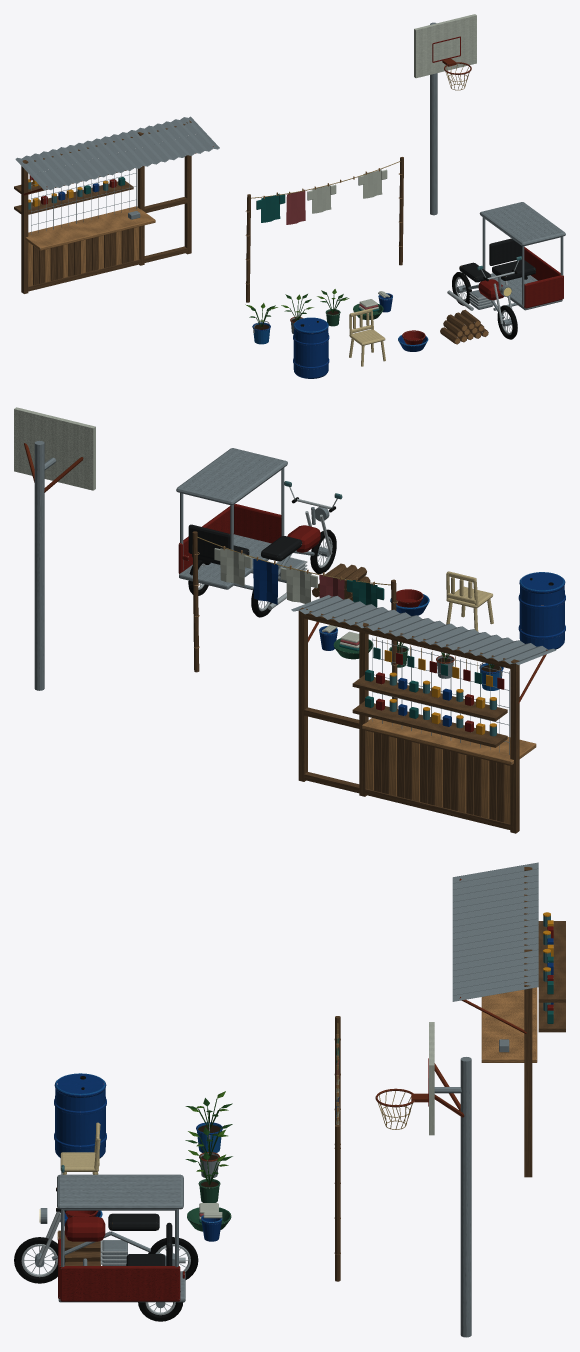
File: SibucaoBarangayKit.glb
3 views of the same model, one above another, from view 1: azimuth 30°, elevation 25°; view 2: azimuth 150°, elevation 25°; view 3: azimuth 270°, elevation 25° (orthographic). The views are drawn at different scales.
Parts seen in each view (by area): view 1: PROP_SariSariFront_mesh, PROP_Tricycle_mesh, PROP_BasketballHoop_mesh, PROP_Clothesline_mesh, PROP_WaterDrum_Blue_mesh, PROP_FirewoodStack_mesh, PROP_PlasticChair_mesh, PROP_LaundryBundle_mesh, PROP_Planter_Pail_mesh, PROP_PlasticBasins_mesh, Wheel_Front_mesh; view 2: PROP_SariSariFront_mesh, PROP_Tricycle_mesh, PROP_BasketballHoop_mesh, PROP_Clothesline_mesh, PROP_WaterDrum_Blue_mesh, PROP_PlasticChair_mesh, PROP_LaundryBundle_mesh, PROP_PlasticBasins_mesh, Wheel_Front_mesh, PROP_FirewoodStack_mesh; view 3: PROP_SariSariFront_mesh, PROP_Tricycle_mesh, PROP_BasketballHoop_mesh, PROP_WaterDrum_Blue_mesh, PROP_Clothesline_mesh, Wheel_Front_mesh, PROP_LaundryBundle_mesh, PROP_Planter_Pail_mesh, PROP_PlasticChair_mesh, PROP_FirewoodStack_mesh, PROP_Planter_CutJug_mesh, PROP_Planter_TinCan_mesh (+2 smaller).
Part boxes in pixels (x1,y1,x2,y2): PROP_SariSariFront_mesh: [14, 116, 219, 293]; PROP_Tricycle_mesh: [447, 202, 565, 323]; PROP_BasketballHoop_mesh: [414, 14, 476, 215]; PROP_Clothesline_mesh: [245, 157, 403, 302]; PROP_WaterDrum_Blue_mesh: [293, 317, 329, 378]; PROP_FirewoodStack_mesh: [440, 309, 488, 344]; PROP_PlasticChair_mesh: [349, 308, 385, 366]; PROP_LaundryBundle_mesh: [353, 291, 392, 319]; PROP_Planter_Pail_mesh: [245, 303, 277, 344]; PROP_PlasticBasins_mesh: [398, 330, 428, 351]; Wheel_Front_mesh: [497, 305, 517, 339]; PROP_SariSariFront_mesh: [291, 595, 555, 833]; PROP_Tricycle_mesh: [176, 448, 342, 609]; PROP_BasketballHoop_mesh: [14, 407, 95, 690]; PROP_Clothesline_mesh: [192, 531, 397, 708]; PROP_WaterDrum_Blue_mesh: [518, 572, 565, 649]; PROP_PlasticChair_mesh: [446, 571, 493, 631]; PROP_LaundryBundle_mesh: [319, 625, 373, 659]; PROP_PlasticBasins_mesh: [390, 589, 429, 616]; Wheel_Front_mesh: [310, 529, 336, 573]; PROP_FirewoodStack_mesh: [312, 563, 372, 600]; PROP_SariSariFront_mesh: [452, 862, 565, 1177]; PROP_Tricycle_mesh: [38, 1165, 185, 1302]; PROP_BasketballHoop_mesh: [375, 1022, 471, 1337]; PROP_WaterDrum_Blue_mesh: [54, 1073, 106, 1158]; PROP_Clothesline_mesh: [334, 1016, 340, 1281]; Wheel_Front_mesh: [14, 1237, 65, 1283]; PROP_LaundryBundle_mesh: [187, 1203, 231, 1241]; PROP_Planter_Pail_mesh: [185, 1091, 232, 1152]; PROP_PlasticChair_mesh: [60, 1122, 100, 1174]; PROP_FirewoodStack_mesh: [57, 1230, 100, 1265]; PROP_Planter_CutJug_mesh: [185, 1150, 232, 1202]; PROP_Planter_TinCan_mesh: [185, 1124, 232, 1178].
Bounding box in the file's own units: 8.32 × 3.75 × 6.44.
Materials: 1 (1 with a texture image).
